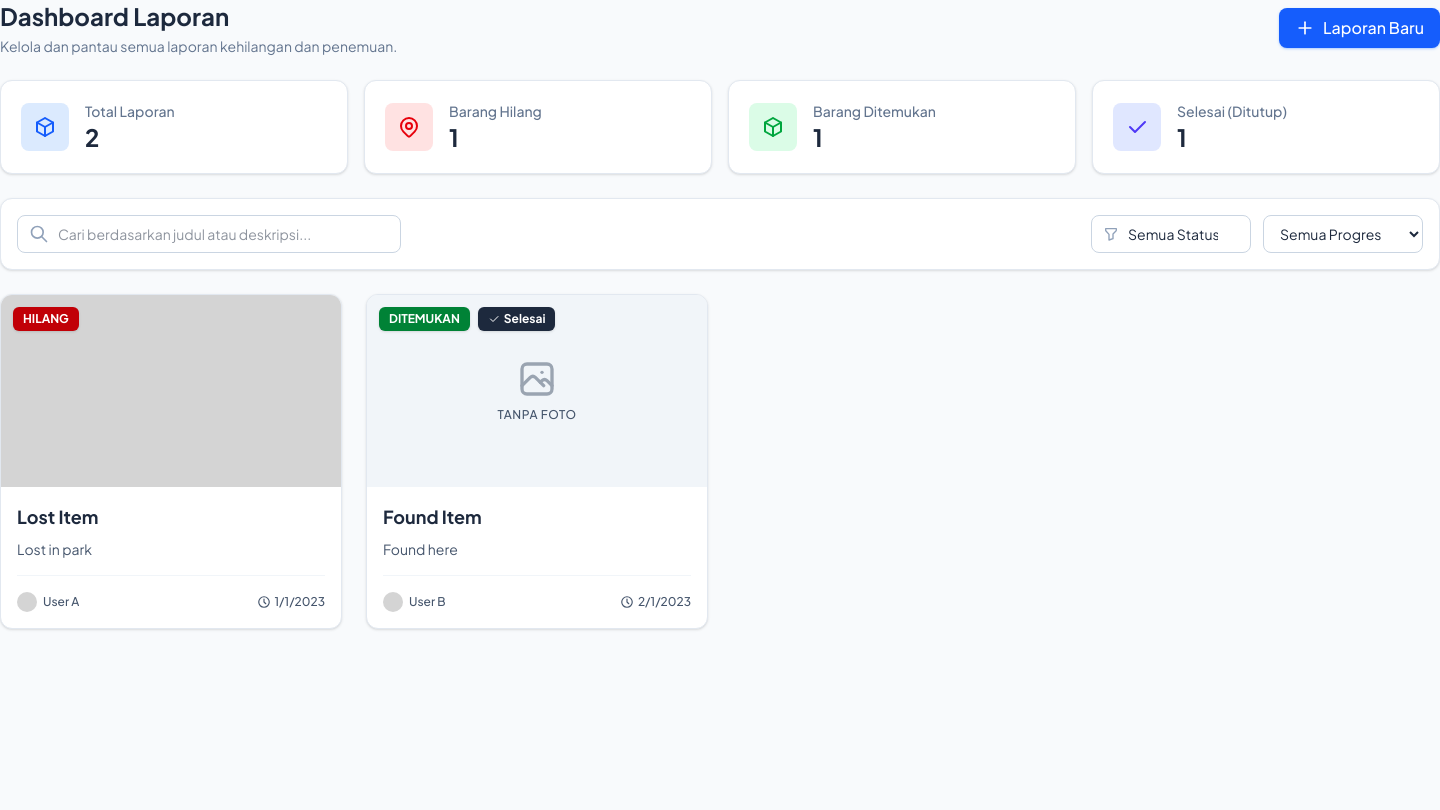
Test: HomePage › closes AddModal via Batal
This screenshot has width=1440, height=810.
Click the button "Laporan Baru" at (1360, 28), box [1279, 8, 1439, 48]
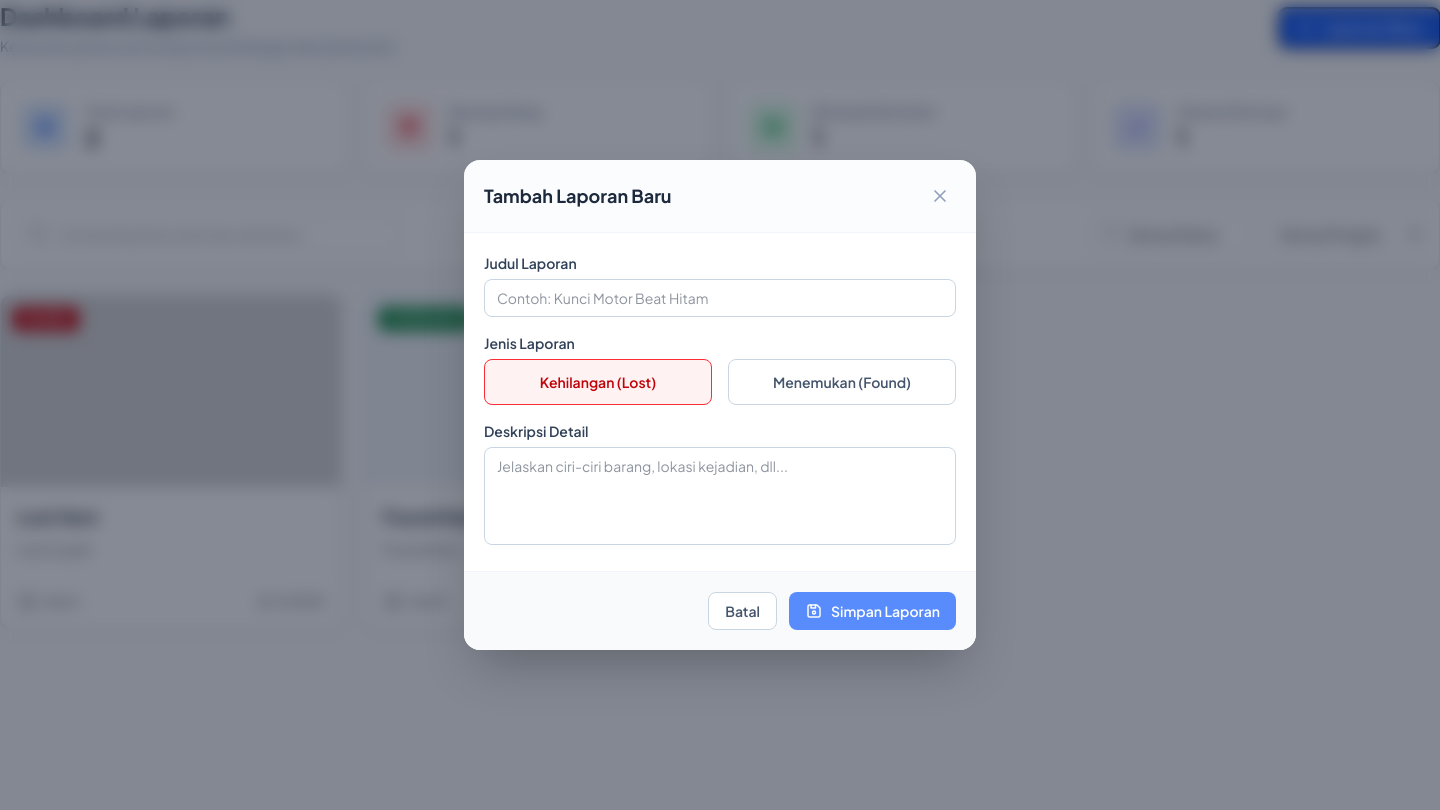
Click the button "Batal" at (743, 611), box [708, 592, 777, 630]
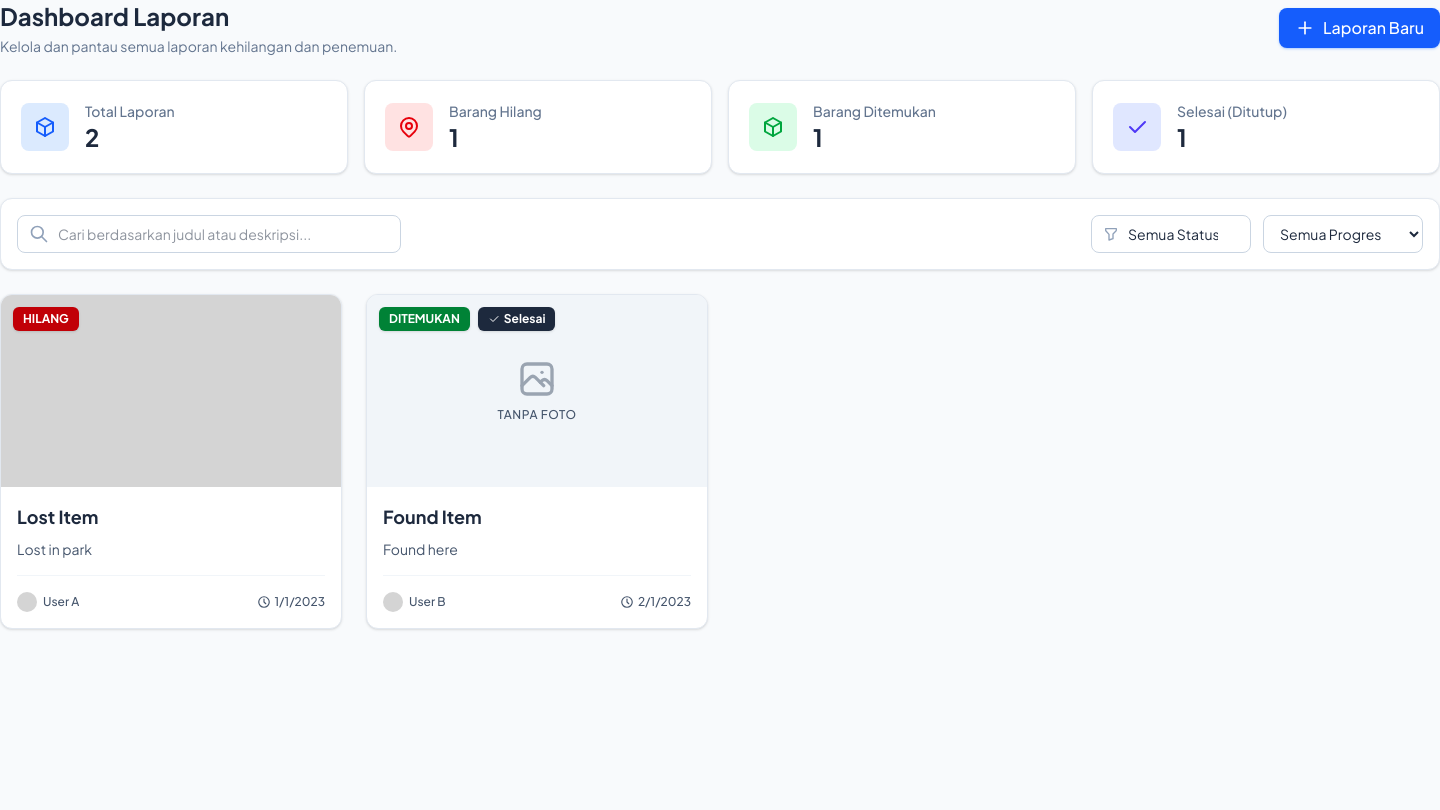
Check: the heading "Tambah Laporan Baru" is gone
